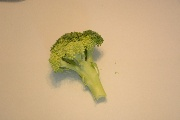broccoli: (49, 29, 107, 100)
